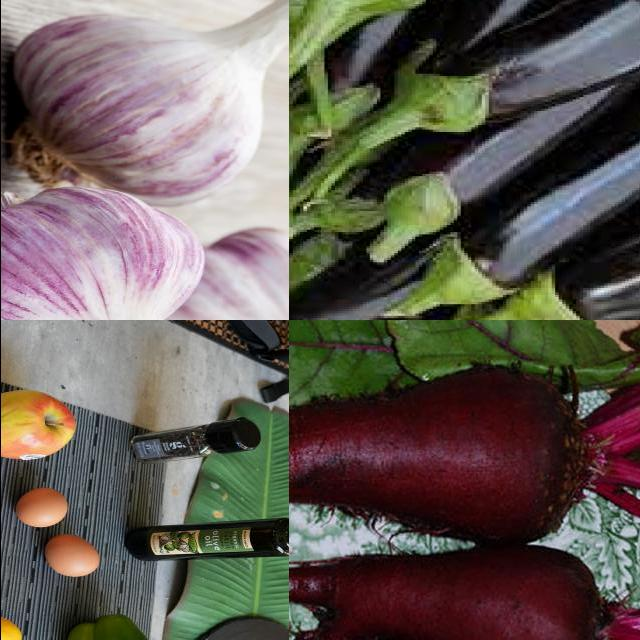beet: (289, 362, 591, 544), (348, 559, 601, 640)
bell_pepper: (133, 411, 265, 465), (55, 608, 172, 640)
egg: (39, 530, 105, 584), (13, 485, 73, 529)
eggplant: (451, 56, 640, 295), (409, 1, 640, 123)
garlic: (1, 1, 289, 218), (1, 182, 222, 321), (136, 230, 289, 321)
